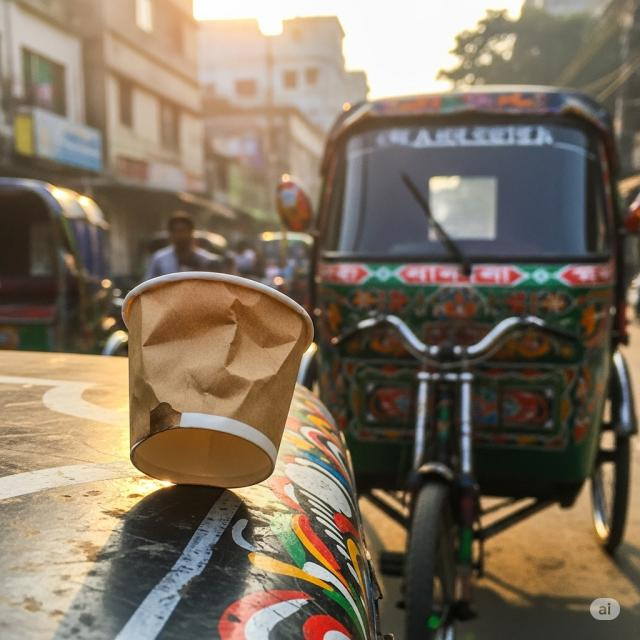paper: (121, 270, 316, 489)
